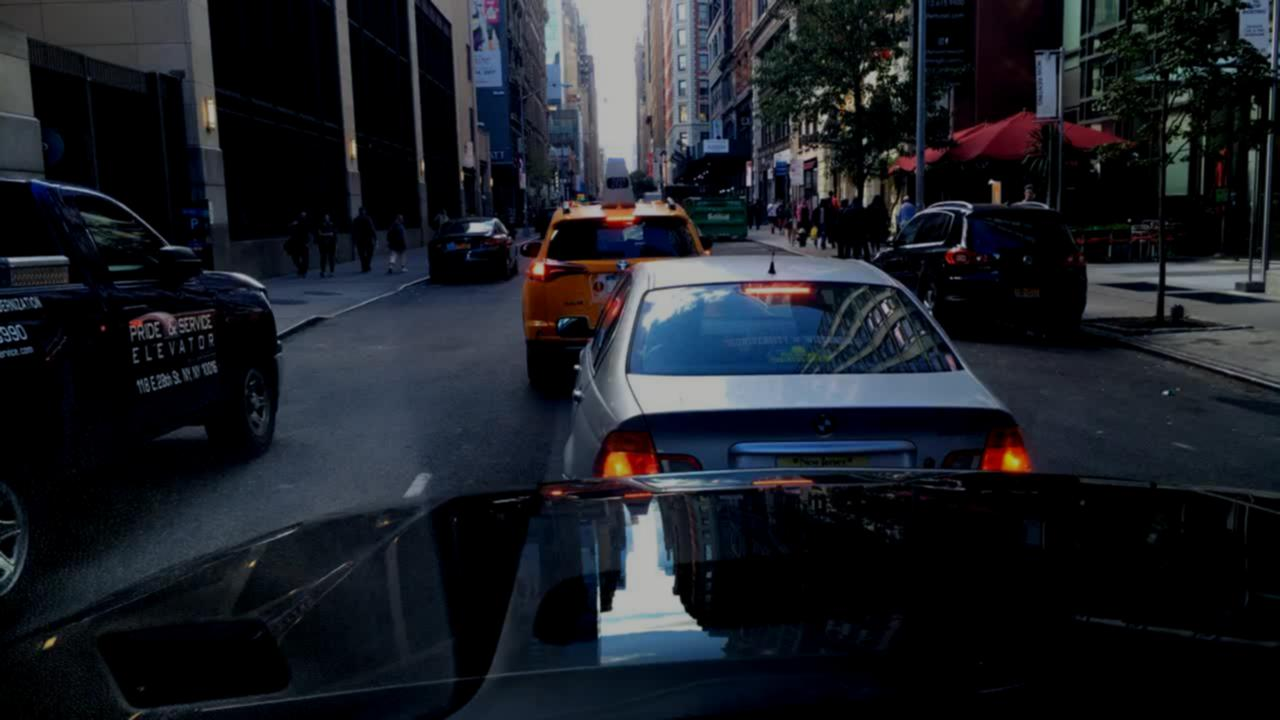Toyota: (614, 259, 631, 271)
Volkswagen: (1021, 254, 1035, 267)
bmw: (803, 408, 846, 441)
